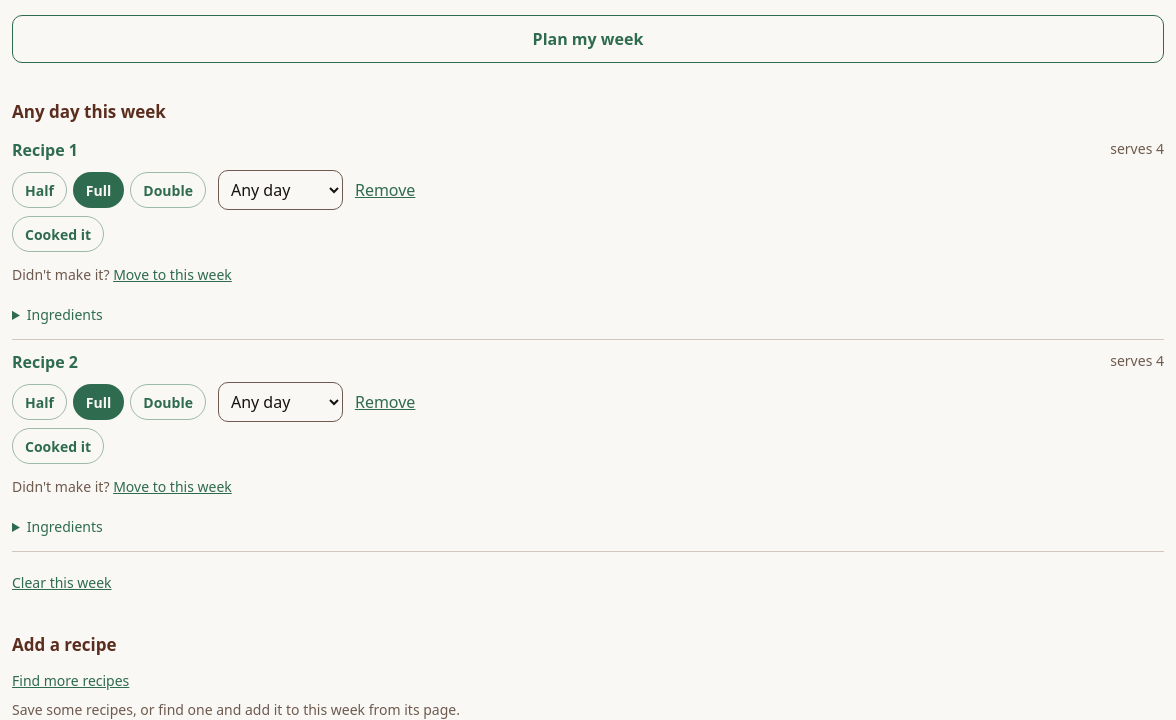
Test: PlanPage › clears the week, but only after asking
(page scrolled)
Click the button "Clear this week": (62,582) top-left (12, 560), bottom-right (112, 604)
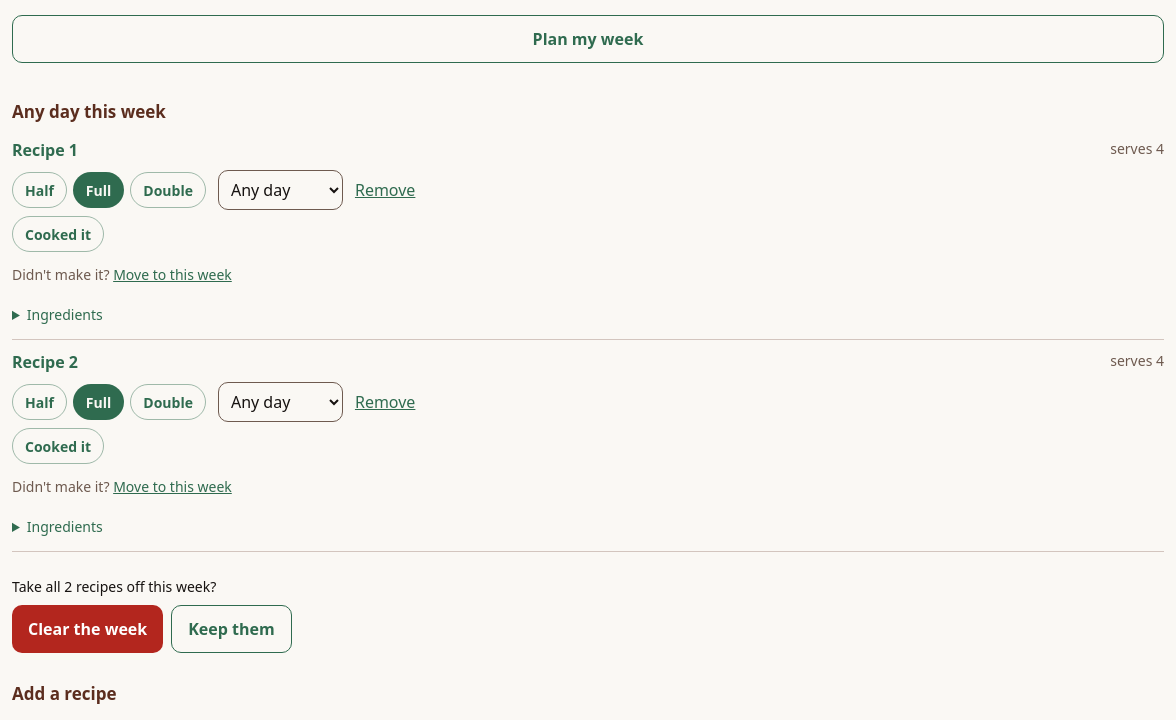
expect the text "Take all 2 recipes off this week?" is shown: met, box top-left (12, 577), bottom-right (216, 596)
Click the button "Keep them": (231,629) top-left (171, 605), bottom-right (292, 653)
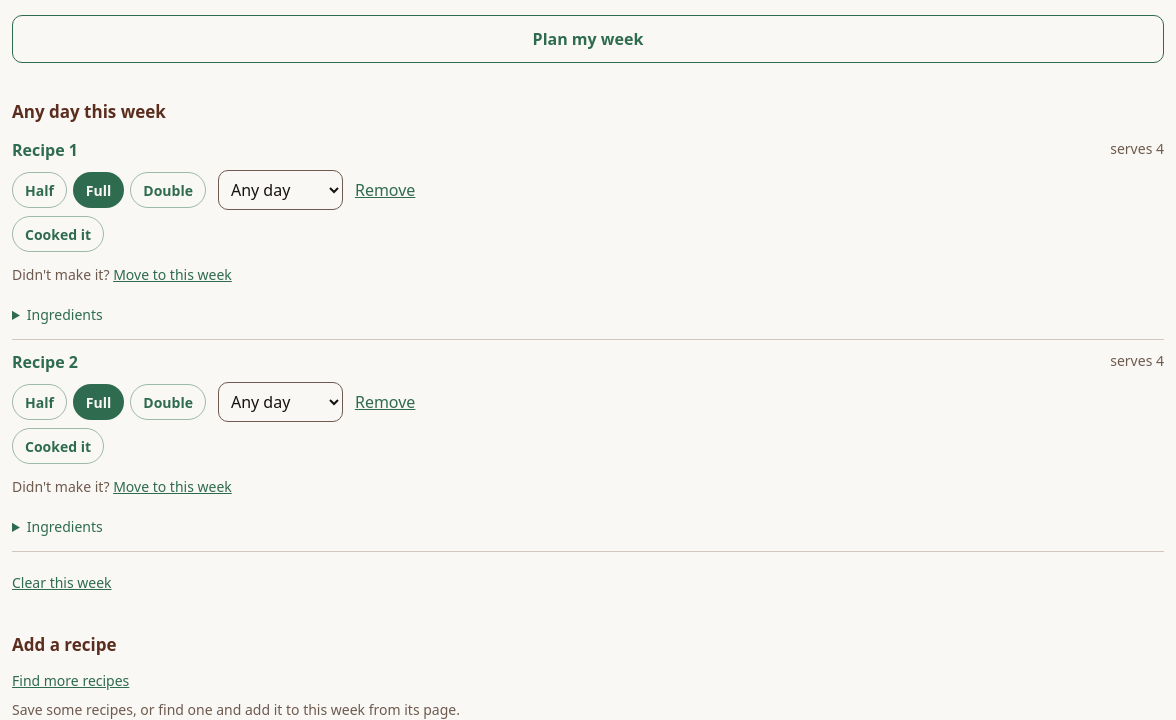
Click the button "Clear this week": (62,582) top-left (12, 560), bottom-right (112, 604)
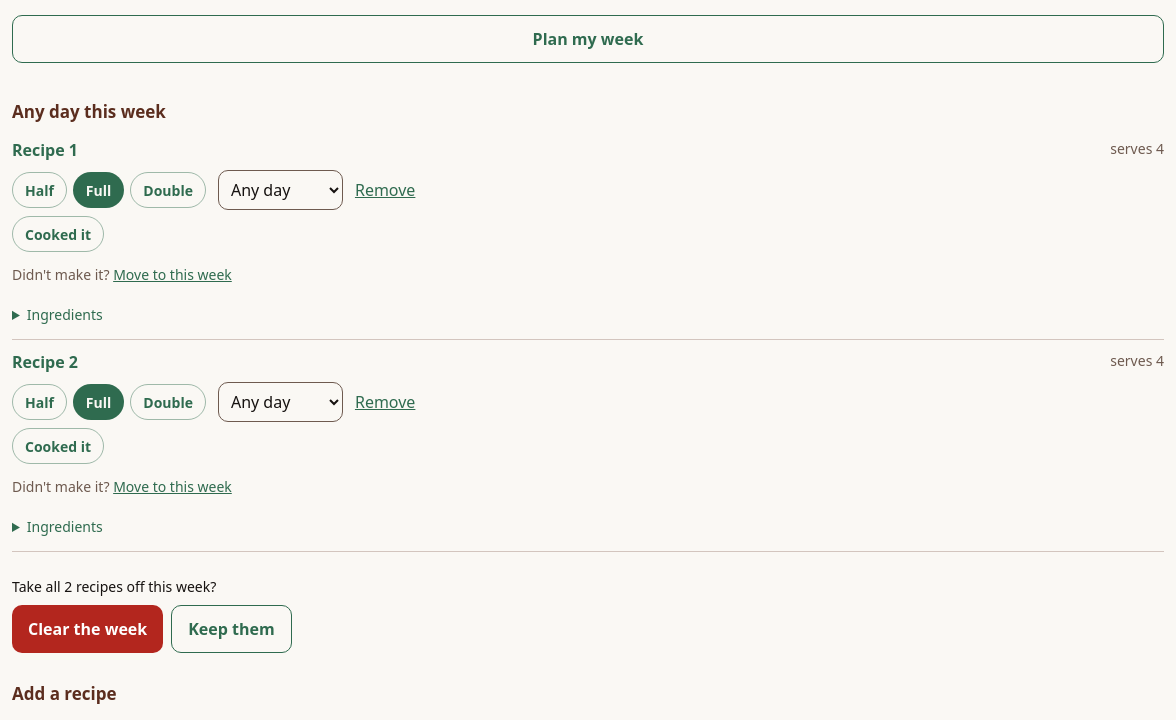
Click the button "Clear the week": (88,629) top-left (12, 605), bottom-right (163, 653)
(page scrolled)
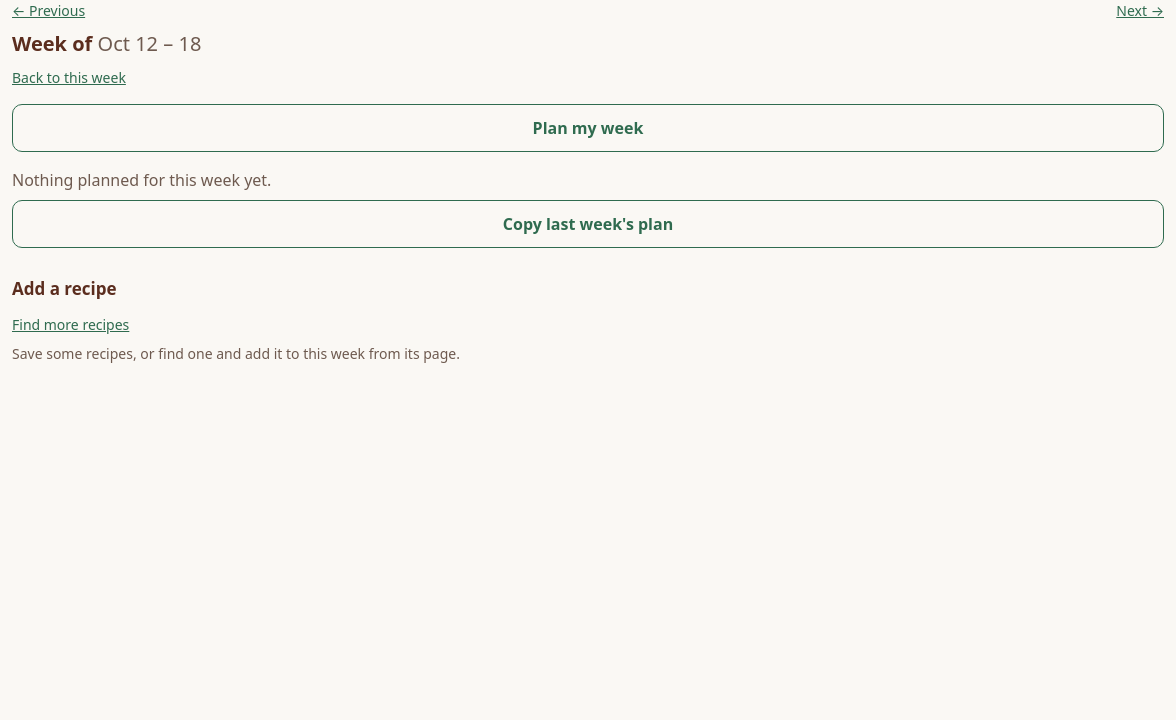
expect the button "Clear this week" is not shown: met
expect the text "Nothing planned for this week yet." is shown: met, box top-left (12, 169), bottom-right (271, 191)
